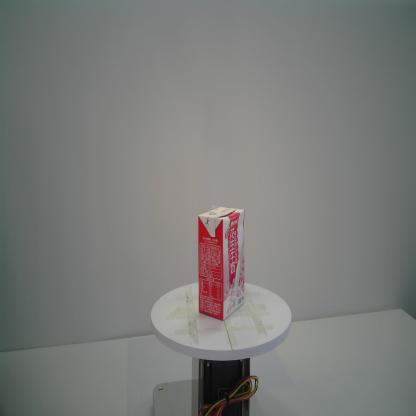Milk: (197, 204, 247, 322)
